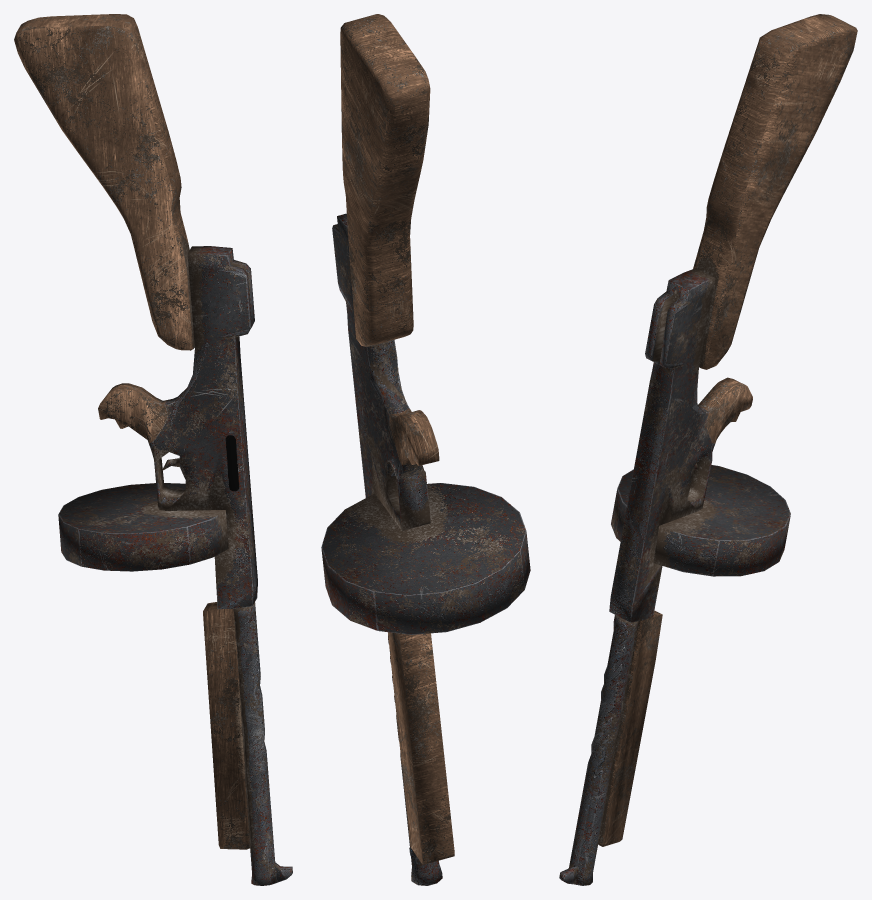
Rendered from Anim_idle_ametralladora_objetos.0021.obj.
The picture shows the model from 3 angles, left to right: view 1: azimuth 30°, elevation 25°; view 2: azimuth 150°, elevation 25°; view 3: azimuth 270°, elevation 25°; orthographic projection. The views are drawn at different scales.
Parts seen in each view (by area): view 1: Ametralladora1; view 2: Ametralladora1; view 3: Ametralladora1.
Part boxes in pixels (<box>): Ametralladora1: <box>14,14,292,885</box>; Ametralladora1: <box>321,14,530,885</box>; Ametralladora1: <box>559,14,857,885</box>.
Bounding box in the file's own units: 1.27 × 5.9 × 1.94.
